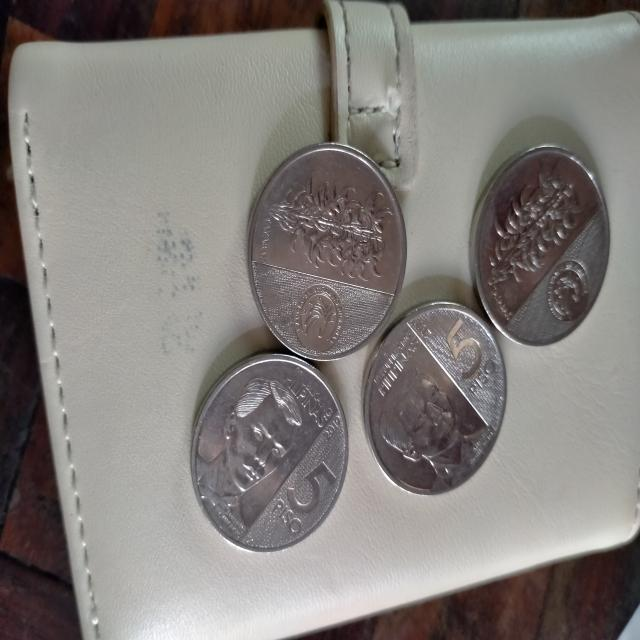5_New_Back: (263, 185, 398, 294)
5_New_Front: (267, 454, 338, 546), (441, 305, 501, 411)
